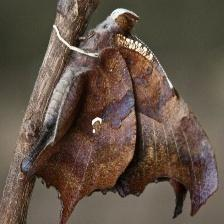butterfly: (22, 9, 218, 224)
